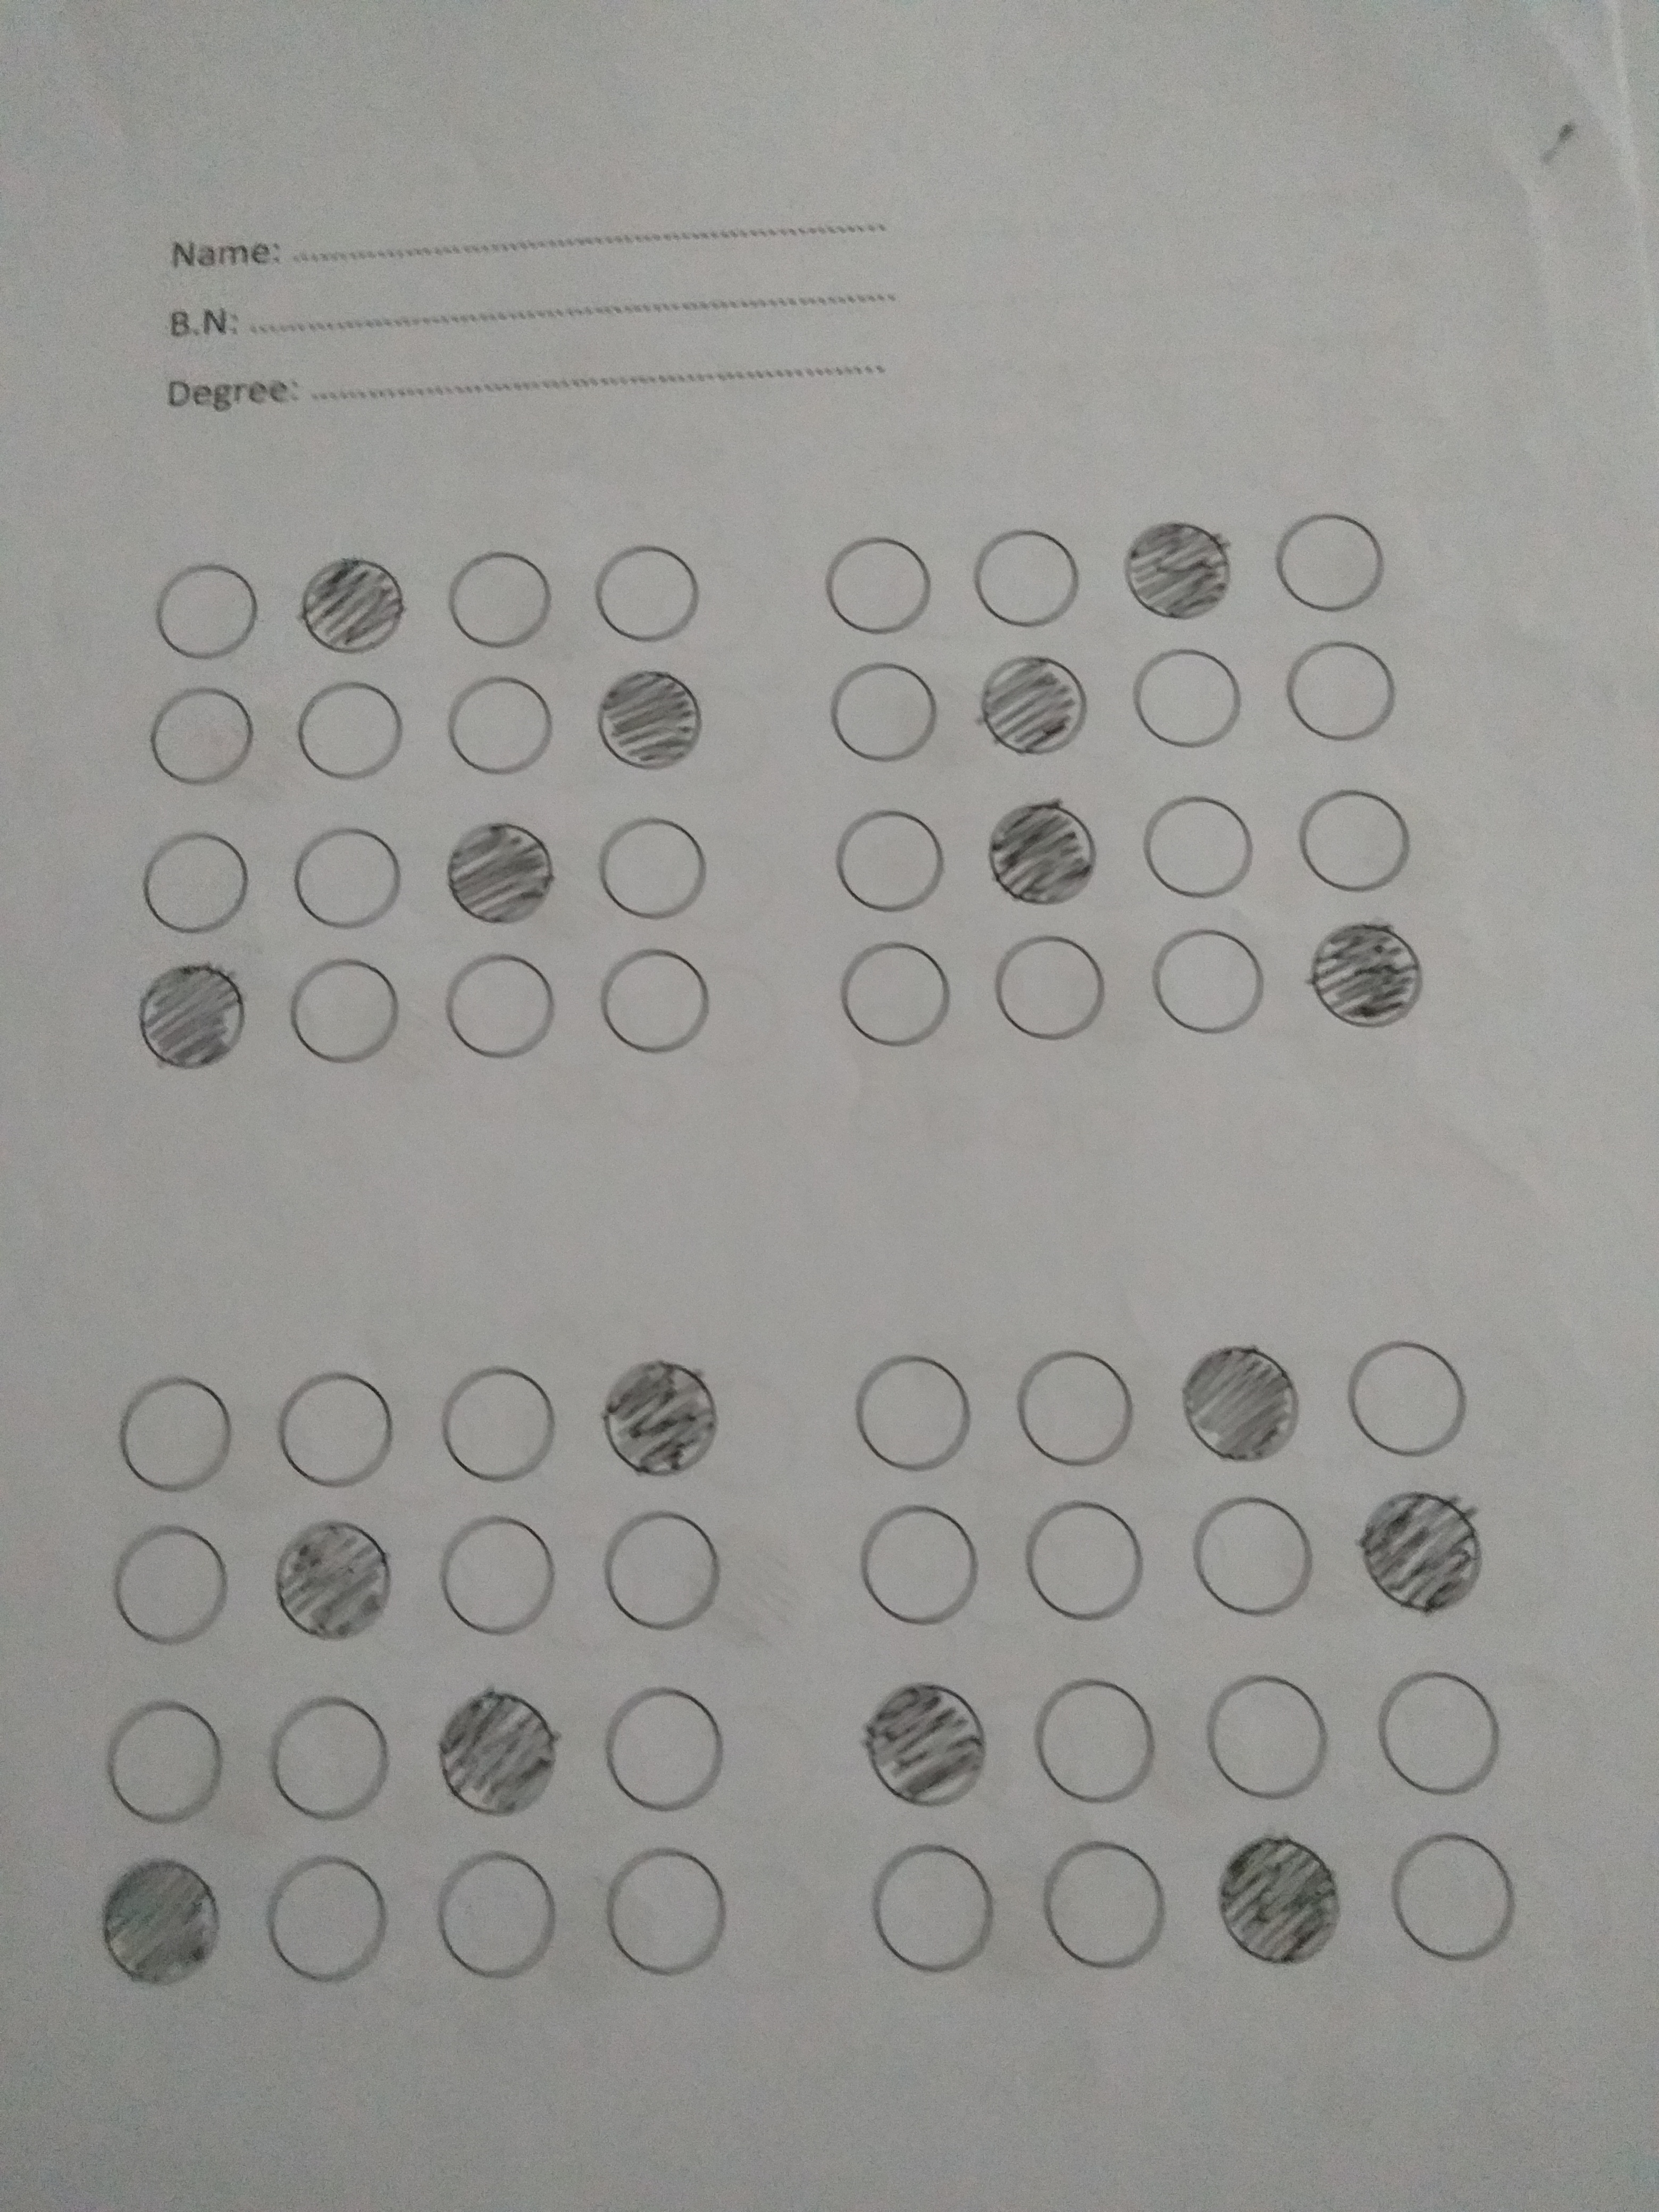not-c: (91, 1353, 254, 1514), (1019, 1662, 1176, 1813), (833, 1500, 990, 1639), (591, 1844, 741, 1989), (1039, 1829, 1182, 1980), (591, 1677, 737, 1824), (1373, 1669, 1523, 1811), (856, 1841, 1011, 1979), (1380, 1827, 1528, 1968), (1333, 1332, 1488, 1467), (89, 1696, 246, 1829), (829, 1346, 983, 1480), (92, 1522, 240, 1660), (1197, 1665, 1342, 1804), (260, 1848, 401, 1986), (589, 1508, 735, 1641), (1256, 503, 1406, 632), (423, 1514, 575, 1641), (1124, 787, 1277, 913), (1018, 1493, 1152, 1635), (274, 1355, 410, 1491), (260, 1698, 404, 1825), (1269, 639, 1403, 775), (125, 819, 267, 948), (821, 937, 974, 1055), (432, 1352, 558, 1496), (1295, 780, 1427, 913), (1188, 1491, 1321, 1623), (986, 925, 1117, 1059), (430, 1846, 559, 1982), (432, 946, 572, 1071), (805, 806, 957, 920), (586, 944, 725, 1064), (969, 516, 1100, 637), (1014, 1350, 1138, 1477), (286, 674, 413, 794), (282, 954, 403, 1082), (136, 549, 270, 662), (580, 812, 708, 930), (582, 540, 718, 650), (814, 533, 950, 643), (1148, 921, 1274, 1036), (291, 824, 411, 941), (436, 669, 559, 782), (1124, 646, 1246, 759), (817, 664, 951, 766), (141, 685, 258, 791), (441, 545, 556, 648)
taken-c: (1213, 1825, 1345, 1970), (434, 1679, 561, 1818), (863, 1676, 992, 1810), (99, 1853, 221, 1991), (1358, 1487, 1486, 1616), (274, 1514, 396, 1646), (1178, 1339, 1303, 1465), (594, 1355, 720, 1480), (985, 789, 1103, 909), (132, 956, 251, 1073), (1117, 510, 1236, 627), (1307, 914, 1424, 1033), (443, 817, 556, 928), (293, 550, 408, 658), (594, 665, 706, 775), (981, 646, 1091, 758)
